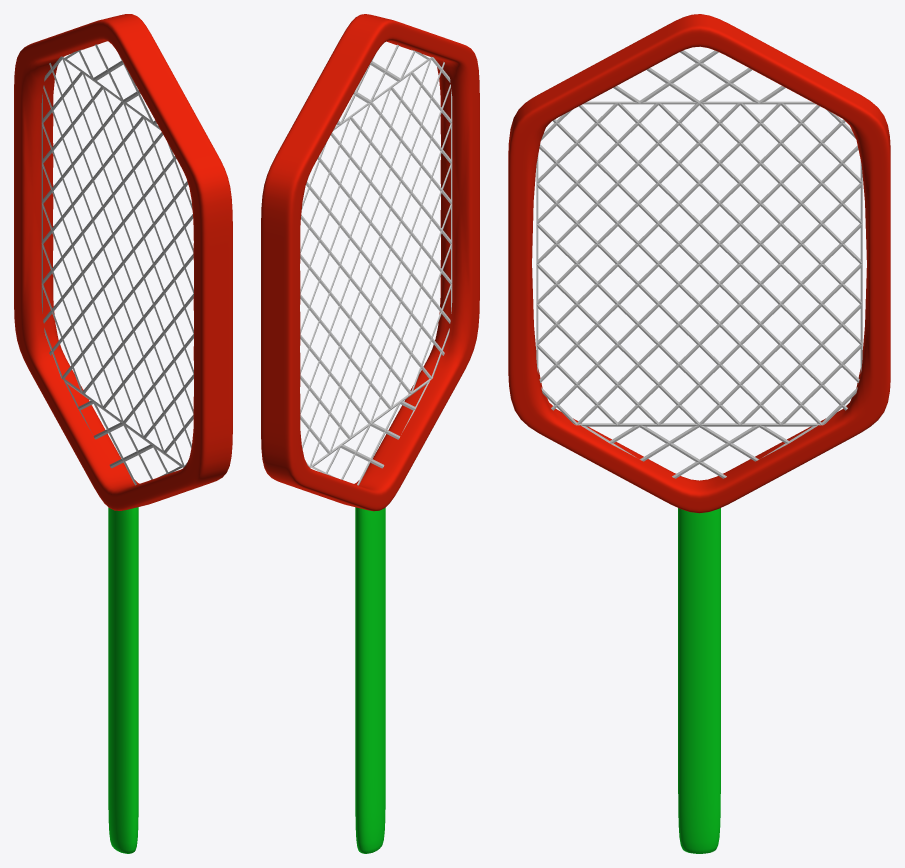
File: TENNNISSSs.fbx
3 renders of one model, left to right at view 1: azimuth 30°, elevation 25°; view 2: azimuth 150°, elevation 25°; view 3: azimuth 270°, elevation 25°, orthographic.
Parts seen in each view (by area): view 1: Cylinder; view 2: Cylinder; view 3: Cylinder.
Part boxes in pixels (x1,y1,x2,y2): Cylinder: (14, 14, 232, 853); Cylinder: (261, 14, 479, 853); Cylinder: (508, 14, 890, 853).
Bounding box in the file's own units: 22.3 × 565 × 236.
